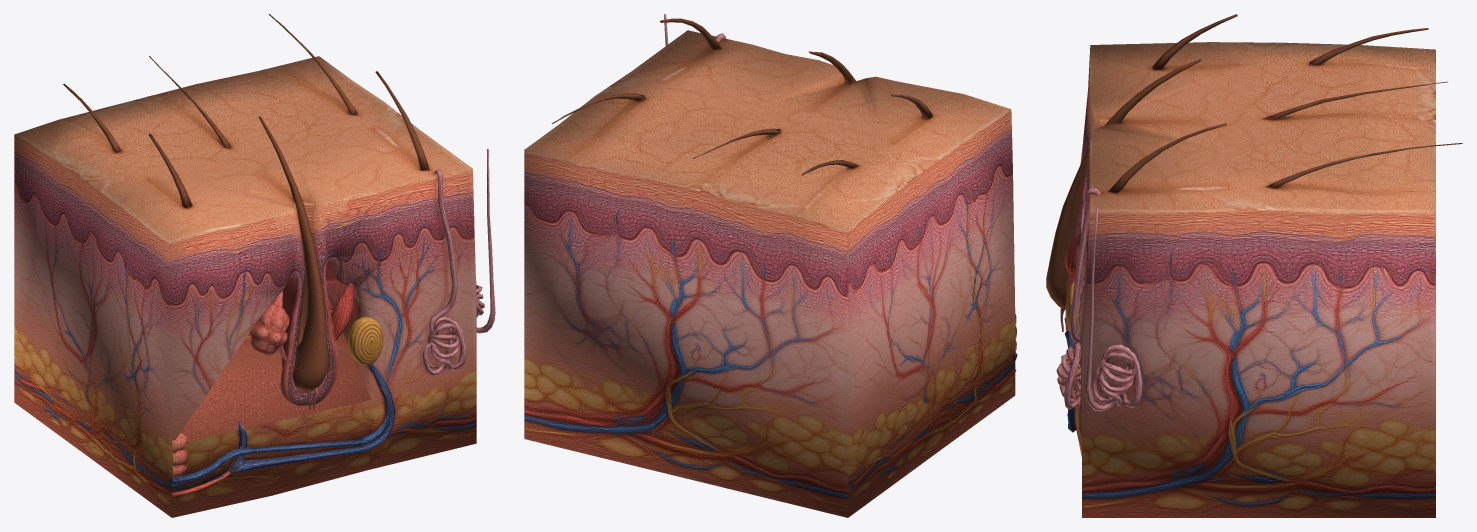
File: skin-realistic.glb
The picture shows the model from 3 angles, left to right: view 1: azimuth 30°, elevation 25°; view 2: azimuth 150°, elevation 25°; view 3: azimuth 270°, elevation 25°; orthographic projection. The views are drawn at different scales.
Parts seen in each view (by area): view 1: tripo_node_0e74f859-6f24-479f-8467-1fba6d513170; view 2: tripo_node_0e74f859-6f24-479f-8467-1fba6d513170; view 3: tripo_node_0e74f859-6f24-479f-8467-1fba6d513170.
Part boxes in pixels (x1=…): tripo_node_0e74f859-6f24-479f-8467-1fba6d513170: x1=14, y1=14, x2=495, y2=517; tripo_node_0e74f859-6f24-479f-8467-1fba6d513170: x1=524, y1=14, x2=1017, y2=517; tripo_node_0e74f859-6f24-479f-8467-1fba6d513170: x1=1046, y1=14, x2=1462, y2=517.
Bounding box in the file's own units: 0.998 × 0.9786 × 0.9825.
1 material, 1 textured.
